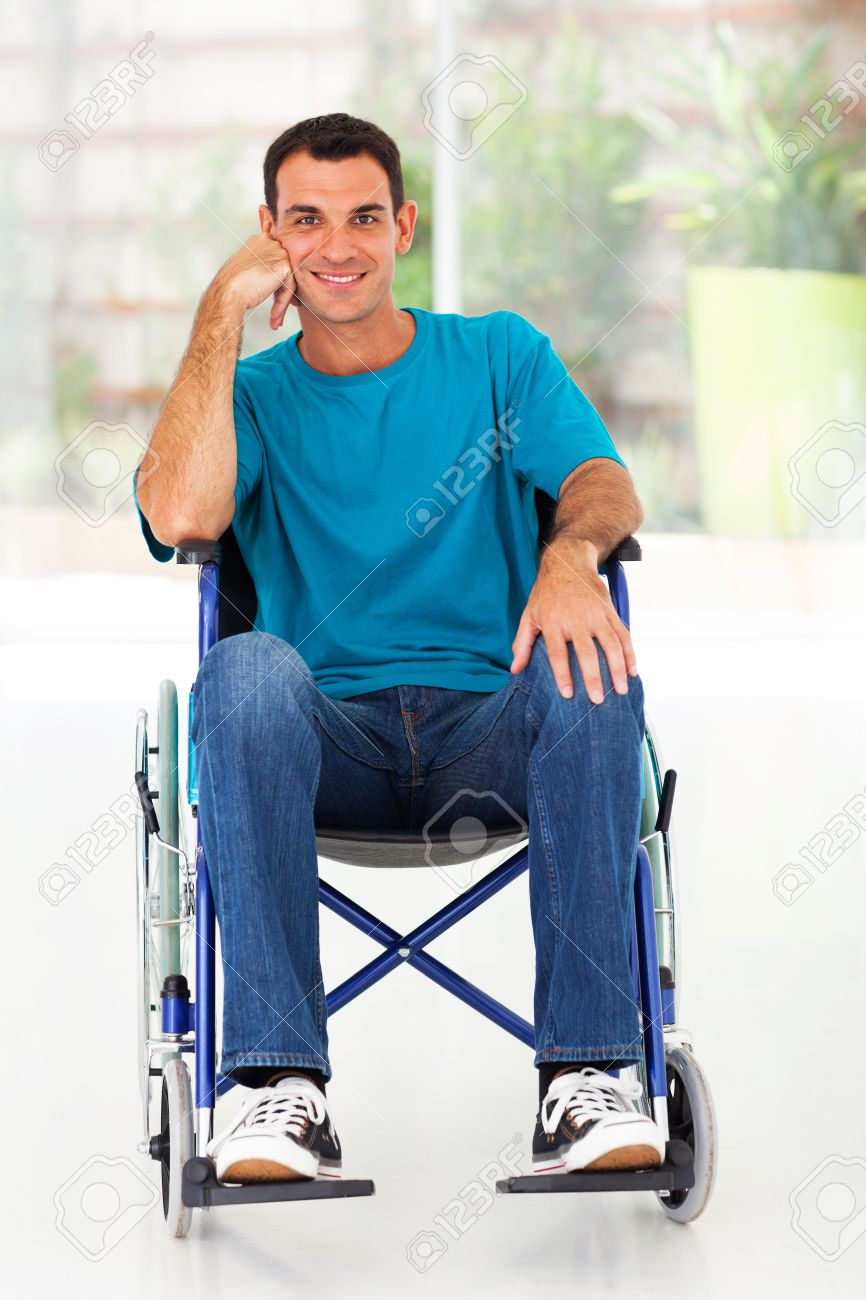person: (144, 110, 656, 714)
wheelchair: (127, 677, 702, 1239)
